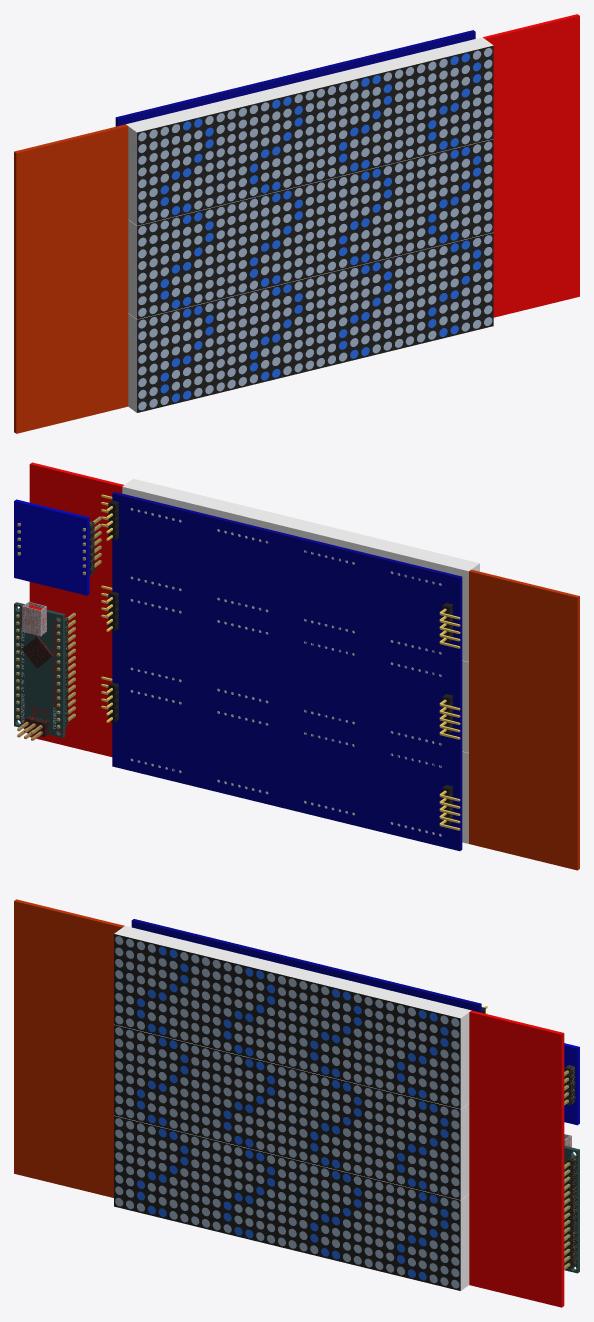
The picture shows the model from 3 angles, top to bottom: view 1: azimuth 30°, elevation 25°; view 2: azimuth 150°, elevation 25°; view 3: azimuth 330°, elevation 25°; orthographic projection. The views are drawn at different scales.
Visible parts, largest first — view 1: _1088BS (×18), group_5, Component_3, Board; view 2: Board (×4), group_5, Component_3, _1088BS (×6), group_9, group_6 (×2); view 3: _1088BS (×18), group_5, Component_3, Board (×2), group_9, group_10.
Part boxes in pixels (box(x1,y1,x2,y2)): _1088BS (×18): box(126, 37, 493, 412); group_5: box(14, 124, 128, 433); Component_3: box(483, 14, 579, 317); Board: box(115, 30, 475, 126); Board (×4): box(14, 491, 462, 851); group_5: box(469, 569, 579, 870); Component_3: box(29, 462, 123, 756); _1088BS (×6): box(122, 478, 479, 843); group_9: box(14, 602, 65, 737); group_6 (×2): box(21, 602, 53, 668); _1088BS (×18): box(114, 926, 471, 1290); group_5: box(14, 899, 124, 1197); Component_3: box(469, 1010, 564, 1307); Board (×2): box(131, 919, 579, 1125); group_9: box(564, 1145, 579, 1273); group_10: box(566, 1201, 576, 1268).
Bounding box in the file's own units: 7.94 × 1.01 × 3.78.
15 materials, 3 textured.
